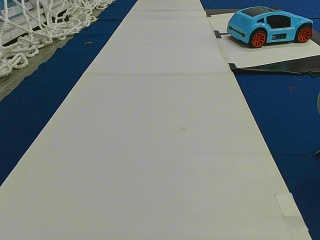car: (226, 7, 312, 47)
